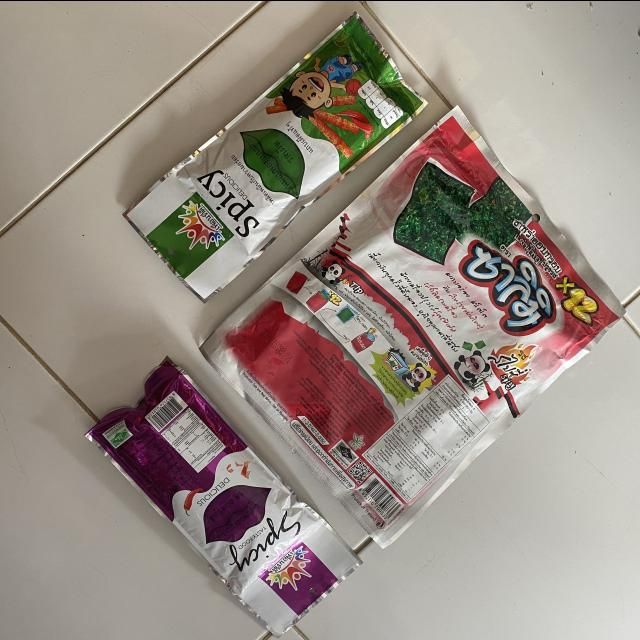plastik: (202, 106, 624, 546), (125, 14, 427, 300), (87, 358, 361, 635)
